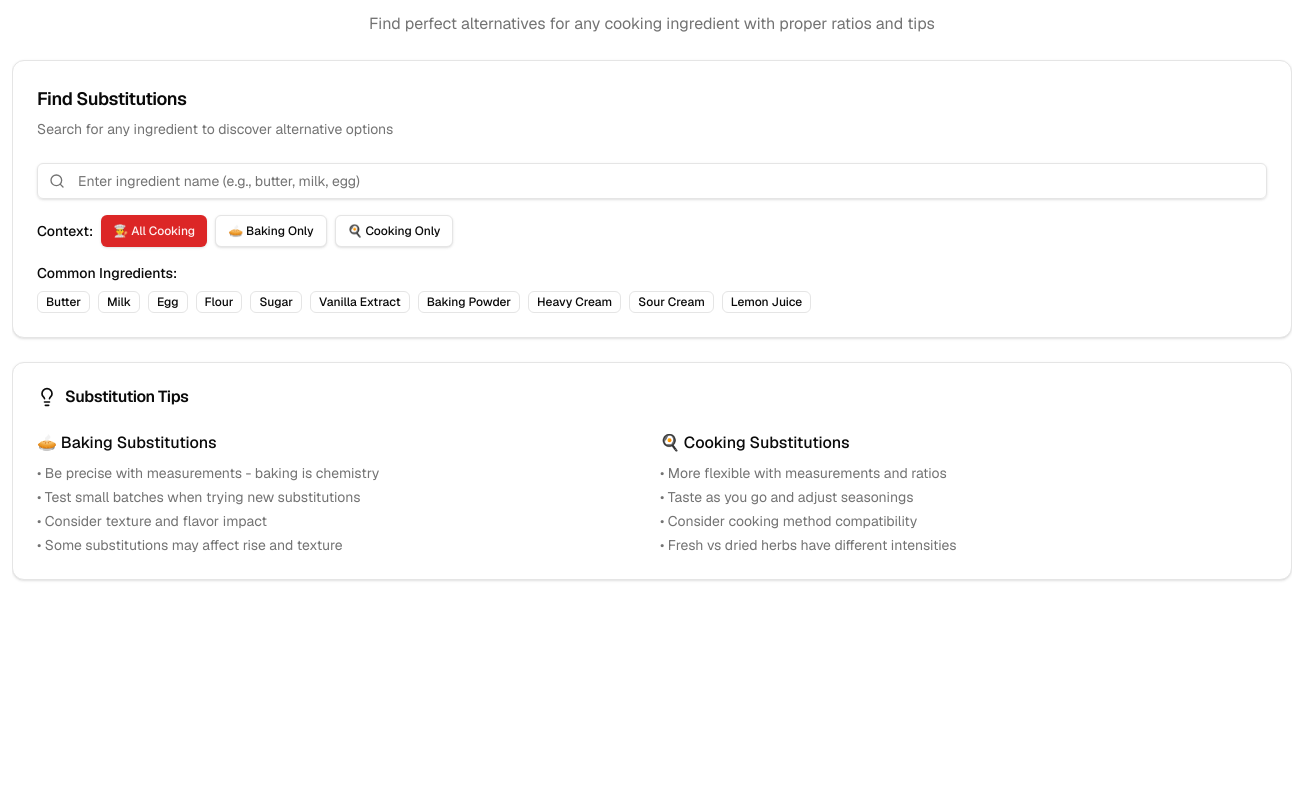
SubstitutionWizard › Ratio Calculations › should display correct ratio text for non-1:1 substitutions
Type "butter" into the field with placeholder "Enter ingredient name (e.g., butter, milk, egg)" at (652, 181), box top-left (37, 163), bottom-right (1267, 199)
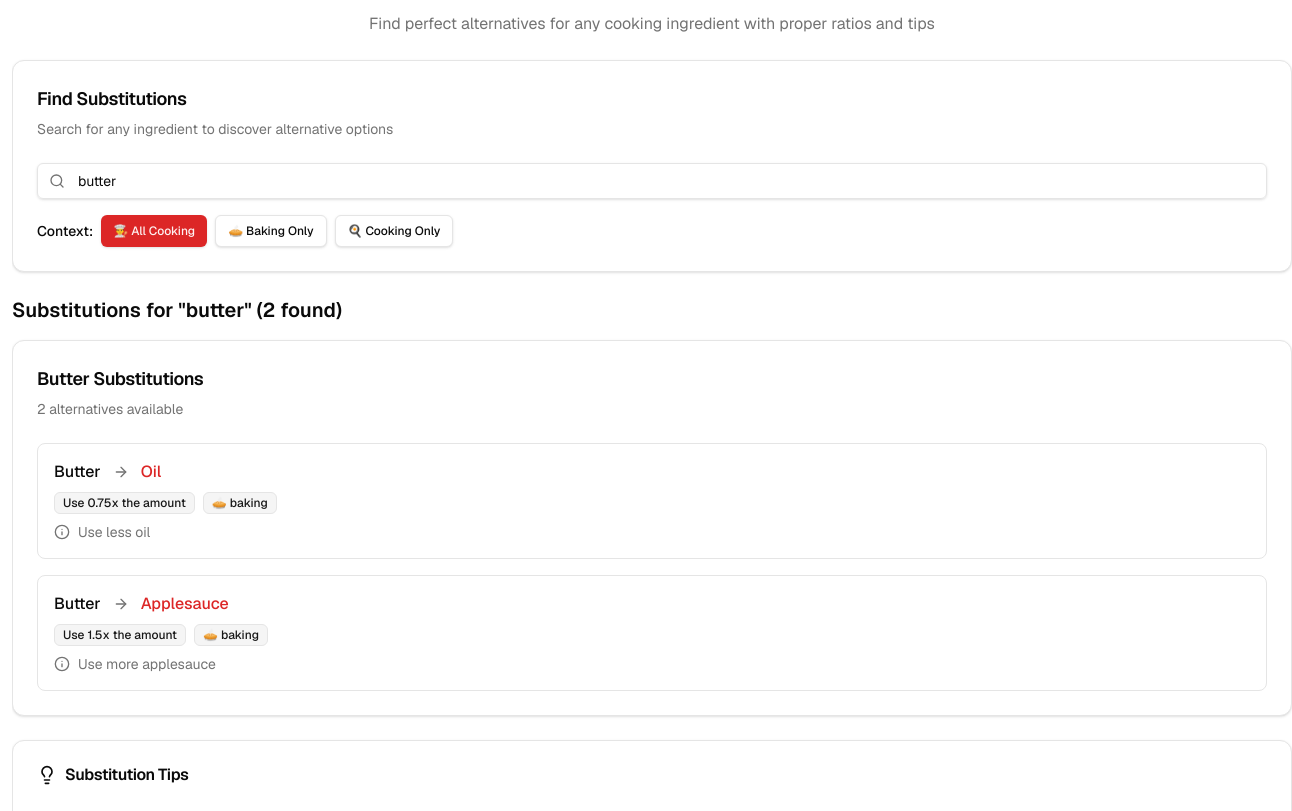
Check: the text "Use 0.75x the amount" is shown, box top-left (54, 492), bottom-right (195, 514)
Check: the text "Use 1.5x the amount" is shown, box top-left (54, 624), bottom-right (186, 646)
